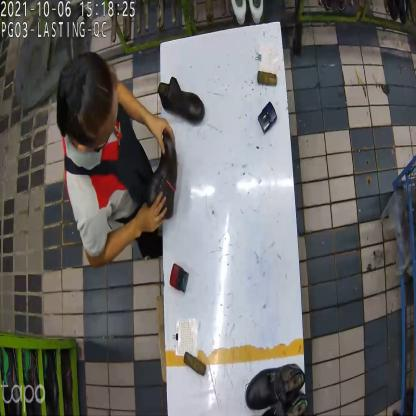shoes: (148, 77, 210, 226), (243, 358, 310, 416)
stamp: (171, 264, 192, 296), (259, 99, 278, 133)
